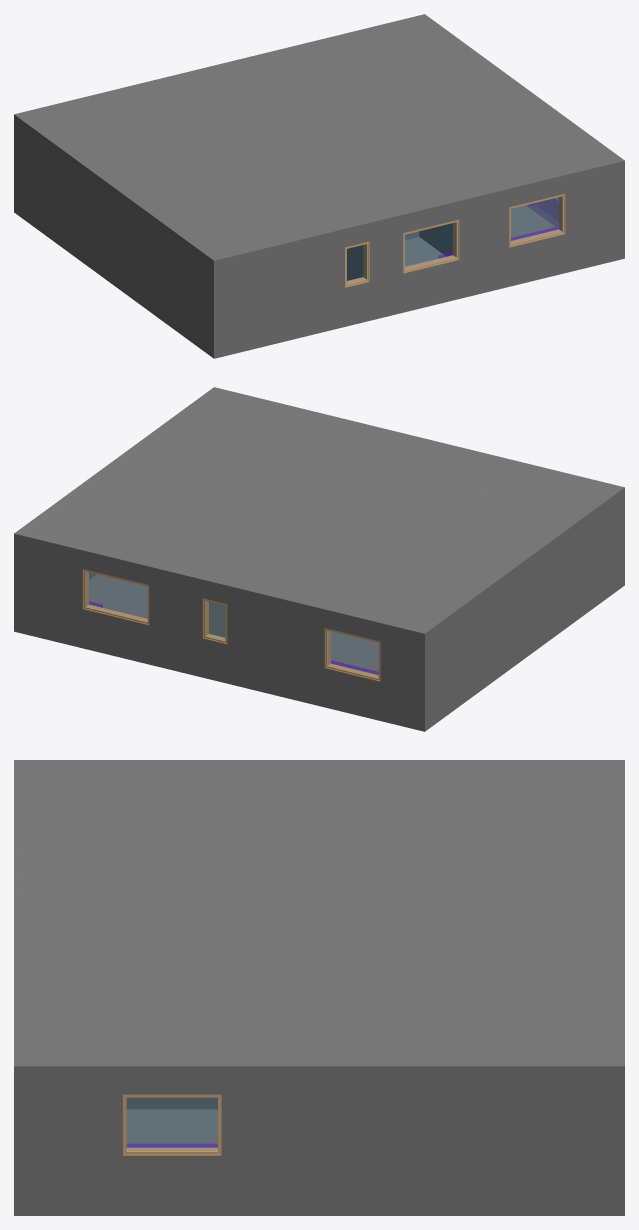
Rendered from openSmartHome_Donkers.dae.
The picture shows the model from 3 angles, top to bottom: view 1: azimuth 30°, elevation 25°; view 2: azimuth 150°, elevation 25°; view 3: azimuth 270°, elevation 25°; orthographic projection. The views are drawn at different scales.
Visible parts, largest first — view 1: product-05b047f8-dd03-4cd9-a50c-d5d18c6ba2b4-body, product-05b047f8-dd03-4cd9-a50c-d5d18c6ba317-body, product-05b047f8-dd03-4cd9-a50c-d5d18c6ba25c-body, product-05b047f8-dd03-4cd9-a50c-d5d18c6badf5-body, product-52a273d7-fd5d-4d87-b824-a5c3f59dea52-body, product-52a273d7-fd5d-4d87-b824-a5c3f59deac1-body, product-05b047f8-dd03-4cd9-a50c-d5d18c6ba3d8-body, product-52a273d7-fd5d-4d87-b824-a5c3f59dea14-body, product-05b047f8-dd03-4cd9-a50c-d5d18c6ba173-body, product-05b047f8-dd03-4cd9-a50c-d5d18c6ba674-body, product-52a273d7-fd5d-4d87-b824-a5c3f59df292-body; view 2: product-05b047f8-dd03-4cd9-a50c-d5d18c6ba2b4-body, product-05b047f8-dd03-4cd9-a50c-d5d18c6ba38a-body, product-05b047f8-dd03-4cd9-a50c-d5d18c6ba25c-body, product-05b047f8-dd03-4cd9-a50c-d5d18c6badf5-body, product-52a273d7-fd5d-4d87-b824-a5c3f59debc1-body, product-52a273d7-fd5d-4d87-b824-a5c3f59de8ae-body, product-05b047f8-dd03-4cd9-a50c-d5d18c6ba3d8-body, product-05b047f8-dd03-4cd9-a50c-d5d18c6ba317-body, product-52a273d7-fd5d-4d87-b824-a5c3f59de81f-body, product-05b047f8-dd03-4cd9-a50c-d5d18c6ba1d3-body, product-05b047f8-dd03-4cd9-a50c-d5d18c6ba056-body, product-05b047f8-dd03-4cd9-a50c-d5d18c6ba6d1-body; view 3: product-05b047f8-dd03-4cd9-a50c-d5d18c6ba2b4-body, product-05b047f8-dd03-4cd9-a50c-d5d18c6ba3d8-body, product-05b047f8-dd03-4cd9-a50c-d5d18c6badf5-body, product-52a273d7-fd5d-4d87-b824-a5c3f59deb78-body, product-05b047f8-dd03-4cd9-a50c-d5d18c6ba317-body, product-05b047f8-dd03-4cd9-a50c-d5d18c6ba38a-body, product-05b047f8-dd03-4cd9-a50c-d5d18c6ba25c-body, product-05b047f8-dd03-4cd9-a50c-d5d18c6ba09f-body, product-05b047f8-dd03-4cd9-a50c-d5d18c6ba173-body.
Part boxes in pixels (x1=…): product-05b047f8-dd03-4cd9-a50c-d5d18c6ba2b4-body: x1=14, y1=14, x2=624, y2=266; product-05b047f8-dd03-4cd9-a50c-d5d18c6ba317-body: x1=219, y1=162, x2=615, y2=350; product-05b047f8-dd03-4cd9-a50c-d5d18c6ba25c-body: x1=14, y1=112, x2=223, y2=353; product-05b047f8-dd03-4cd9-a50c-d5d18c6badf5-body: x1=14, y1=202, x2=624, y2=358; product-52a273d7-fd5d-4d87-b824-a5c3f59dea52-body: x1=403, y1=219, x2=459, y2=273; product-52a273d7-fd5d-4d87-b824-a5c3f59deac1-body: x1=509, y1=194, x2=565, y2=247; product-05b047f8-dd03-4cd9-a50c-d5d18c6ba3d8-body: x1=423, y1=20, x2=624, y2=255; product-52a273d7-fd5d-4d87-b824-a5c3f59dea14-body: x1=345, y1=241, x2=369, y2=287; product-05b047f8-dd03-4cd9-a50c-d5d18c6ba173-body: x1=419, y1=143, x2=486, y2=256; product-05b047f8-dd03-4cd9-a50c-d5d18c6ba674-body: x1=309, y1=171, x2=372, y2=280; product-52a273d7-fd5d-4d87-b824-a5c3f59df292-body: x1=527, y1=197, x2=558, y2=226; product-05b047f8-dd03-4cd9-a50c-d5d18c6ba2b4-body: x1=14, y1=387, x2=624, y2=639; product-05b047f8-dd03-4cd9-a50c-d5d18c6ba38a-body: x1=14, y1=529, x2=420, y2=723; product-05b047f8-dd03-4cd9-a50c-d5d18c6ba25c-body: x1=415, y1=493, x2=624, y2=726; product-05b047f8-dd03-4cd9-a50c-d5d18c6badf5-body: x1=14, y1=574, x2=624, y2=731; product-52a273d7-fd5d-4d87-b824-a5c3f59debc1-body: x1=82, y1=569, x2=149, y2=625; product-52a273d7-fd5d-4d87-b824-a5c3f59de8ae-body: x1=324, y1=628, x2=380, y2=681; product-05b047f8-dd03-4cd9-a50c-d5d18c6ba3d8-body: x1=19, y1=387, x2=221, y2=579; product-05b047f8-dd03-4cd9-a50c-d5d18c6ba317-body: x1=219, y1=390, x2=615, y2=486; product-52a273d7-fd5d-4d87-b824-a5c3f59de81f-body: x1=202, y1=598, x2=227, y2=644; product-05b047f8-dd03-4cd9-a50c-d5d18c6ba1d3-body: x1=121, y1=461, x2=281, y2=503; product-05b047f8-dd03-4cd9-a50c-d5d18c6ba056-body: x1=189, y1=525, x2=253, y2=637; product-05b047f8-dd03-4cd9-a50c-d5d18c6ba6d1-body: x1=412, y1=466, x2=521, y2=543; product-05b047f8-dd03-4cd9-a50c-d5d18c6ba2b4-body: x1=14, y1=760, x2=624, y2=1074; product-05b047f8-dd03-4cd9-a50c-d5d18c6ba3d8-body: x1=14, y1=1059, x2=608, y2=1207; product-05b047f8-dd03-4cd9-a50c-d5d18c6badf5-body: x1=14, y1=1109, x2=624, y2=1215; product-52a273d7-fd5d-4d87-b824-a5c3f59deb78-body: x1=123, y1=1094, x2=221, y2=1155; product-05b047f8-dd03-4cd9-a50c-d5d18c6ba317-body: x1=14, y1=767, x2=29, y2=1058; product-05b047f8-dd03-4cd9-a50c-d5d18c6ba38a-body: x1=609, y1=767, x2=624, y2=1207; product-05b047f8-dd03-4cd9-a50c-d5d18c6ba25c-body: x1=14, y1=760, x2=624, y2=766; product-05b047f8-dd03-4cd9-a50c-d5d18c6ba09f-body: x1=351, y1=767, x2=367, y2=895; product-05b047f8-dd03-4cd9-a50c-d5d18c6ba173-body: x1=126, y1=1097, x2=217, y2=1109.
Bounding box in the file's own units: 11.71 × 9.88 × 2.72.
